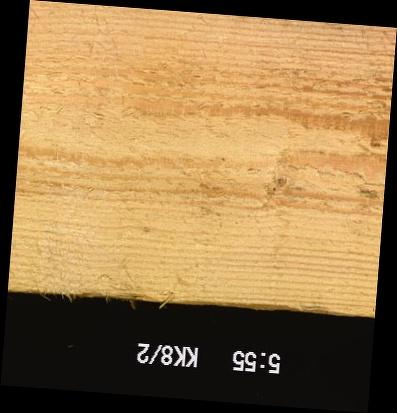small_knot: (274, 175, 289, 190)
wave: (59, 289, 330, 310)
